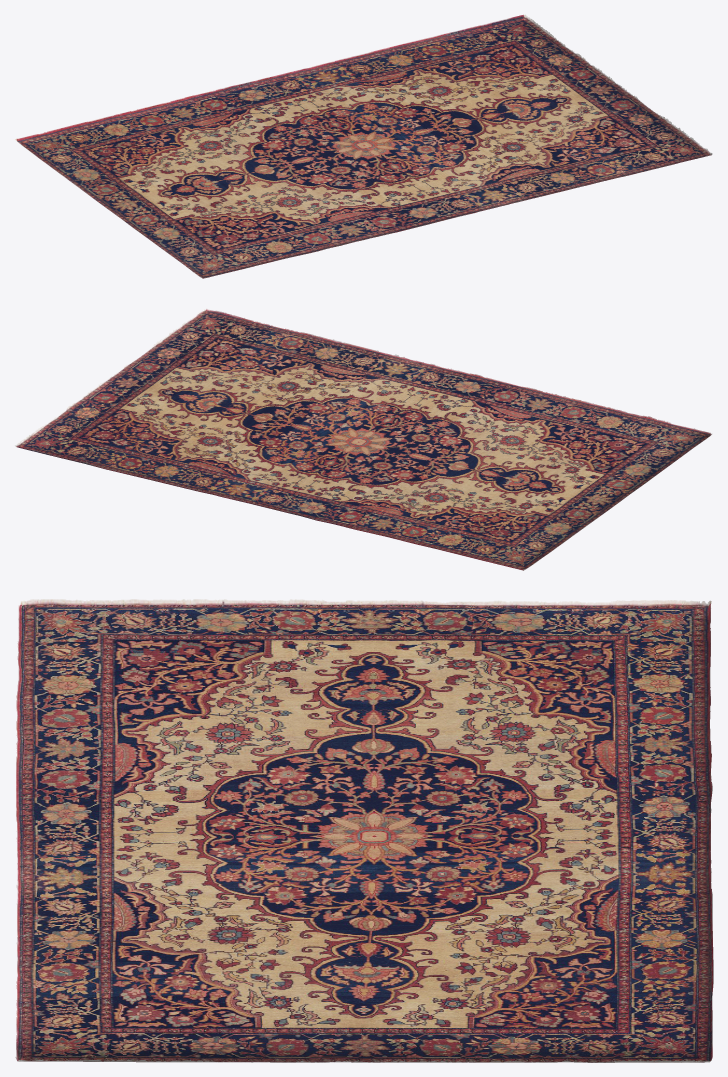
File: VJ_Catifa.fbx
The picture shows the model from 3 angles, top to bottom: view 1: azimuth 30°, elevation 25°; view 2: azimuth 150°, elevation 25°; view 3: azimuth 270°, elevation 25°; orthographic projection. The views are drawn at different scales.
Parts seen in each view (by area): view 1: VJ_Catifa; view 2: VJ_Catifa; view 3: VJ_Catifa.
Boxes of the visible parts, box(x1,y1,x2,y2) form: VJ_Catifa: box(14, 14, 712, 278); VJ_Catifa: box(15, 308, 711, 570); VJ_Catifa: box(15, 599, 713, 1062).
Size of the model in its own units: 58.29 by 0.2213 by 37.37.
Materials: 1 (1 with a texture image).
